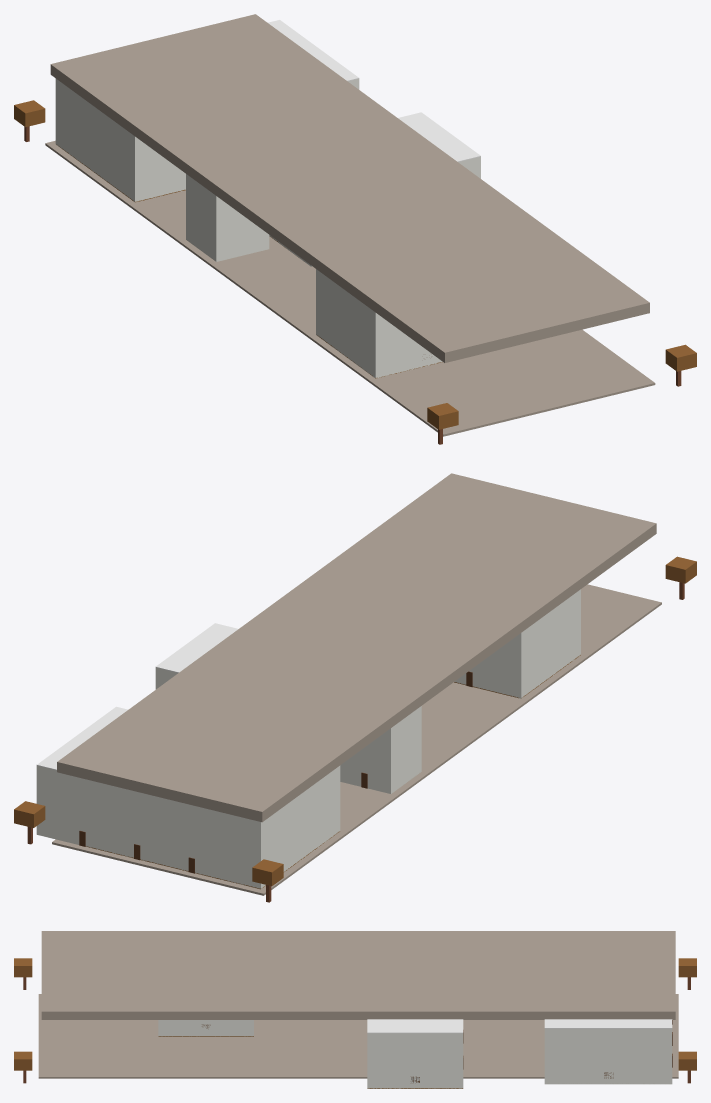
File: enhanced_boq_fallback_1751737502979_r8lykbnuy.obj
3 renders of one model, top to bottom at view 1: azimuth 30°, elevation 25°; view 2: azimuth 150°, elevation 25°; view 3: azimuth 270°, elevation 25°, orthographic. The views are drawn at different scales.
Parts seen in each view (by area): view 1: Roof, Foundation, Wall_Left_0, Wall_Left_6, Wall_Back_6, Wall_Back_3, Wall_Back_0, Wall_Left_3, Ceiling_5, Ceiling_2, TreeFoliage_0, TreeFoliage_2 (+1 smaller); view 2: Roof, Foundation, Wall_Front_0, Wall_Left_0, Wall_Left_6, Wall_Front_2, Wall_Front_1, Wall_Front_3, Wall_Front_6, Wall_Left_3, Ceiling_5, Ceiling_2 (+3 smaller); view 3: Roof, Foundation, Wall_Right_2, Wall_Right_5, Wall_Right_6, Ceiling_5, Ceiling_2, TreeFoliage_0, TreeFoliage_1, TreeFoliage_2, TreeFoliage_3.
Boxes of the visible parts, <box> form: Roof: <box>50,14,649,362</box>; Foundation: <box>45,140,655,436</box>; Wall_Left_0: <box>55,79,136,201</box>; Wall_Left_6: <box>316,270,376,377</box>; Wall_Back_6: <box>375,312,442,377</box>; Wall_Back_3: <box>216,196,269,261</box>; Wall_Back_0: <box>134,136,185,201</box>; Wall_Left_3: <box>186,174,216,261</box>; Ceiling_5: <box>398,112,480,161</box>; Ceiling_2: <box>268,20,359,81</box>; TreeFoliage_0: <box>14,100,45,127</box>; TreeFoliage_2: <box>427,403,458,429</box>; Roof: <box>57,473,656,822</box>; Foundation: <box>52,584,661,895</box>; Wall_Front_0: <box>123,788,261,888</box>; Wall_Left_0: <box>259,766,340,887</box>; Wall_Left_6: <box>520,589,580,698</box>; Wall_Front_2: <box>36,765,126,853</box>; Wall_Front_1: <box>80,778,194,870</box>; Wall_Front_3: <box>340,728,391,793</box>; Wall_Front_6: <box>454,634,519,697</box>; Wall_Left_3: <box>389,706,420,793</box>; Ceiling_5: <box>155,623,238,672</box>; Ceiling_2: <box>36,706,127,770</box>; Roof: <box>41,931,675,1019</box>; Foundation: <box>38,994,678,1078</box>; Wall_Right_2: <box>544,1028,672,1084</box>; Wall_Right_5: <box>367,1033,462,1088</box>; Wall_Right_6: <box>158,1020,253,1036</box>; Ceiling_5: <box>367,1019,463,1033</box>; Ceiling_2: <box>544,1019,672,1028</box>; TreeFoliage_0: <box>678,958,696,977</box>; TreeFoliage_1: <box>678,1051,696,1070</box>; TreeFoliage_2: <box>14,958,32,977</box>; TreeFoliage_3: <box>14,1051,32,1070</box>.
Size of the model in its own units: 39.59 by 11.8 by 111.
